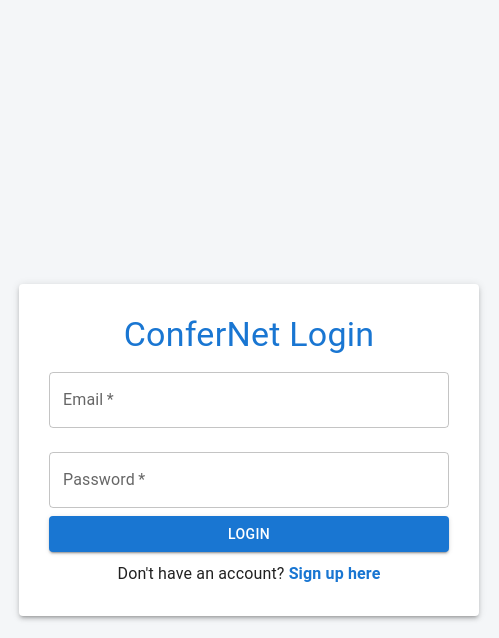
Test: Login Component › test-id: 12, shows error snackbar on login failure
Type "wrong@example.com" into the field labelled "Email *".
click(249, 400); type("wrong@example.com")  # box [49,372,449,428]
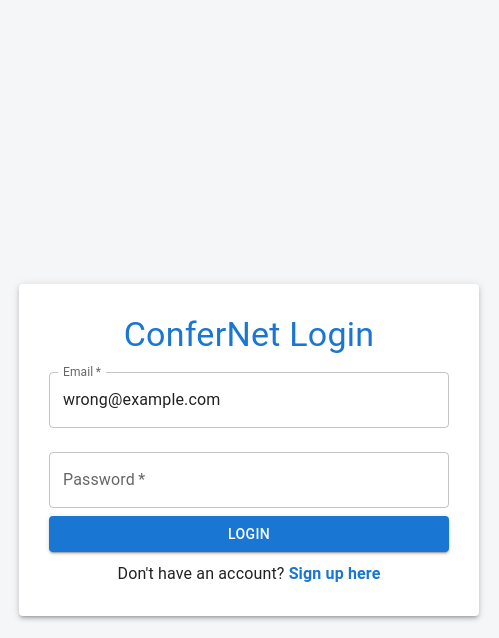
Type "wrongpass" into the password field labelled "Password *".
click(249, 480); type("wrongpass")  # box [49,452,449,508]
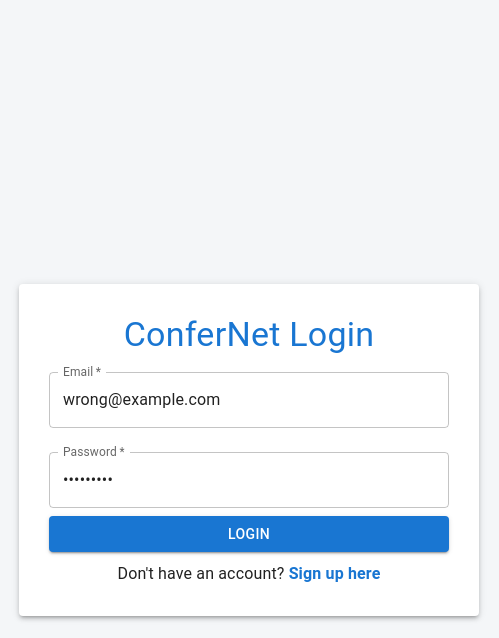
Click the button "Login".
click(249, 534)  # box [49,516,449,552]
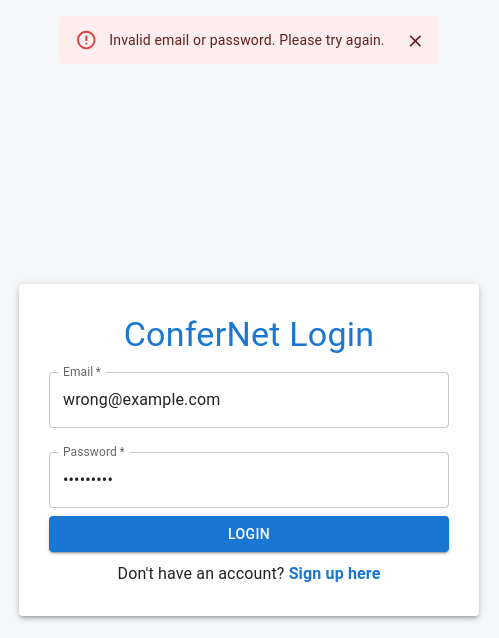
Expected: the text "Invalid email or password. Please try again." is shown, [109,32,385,48]
